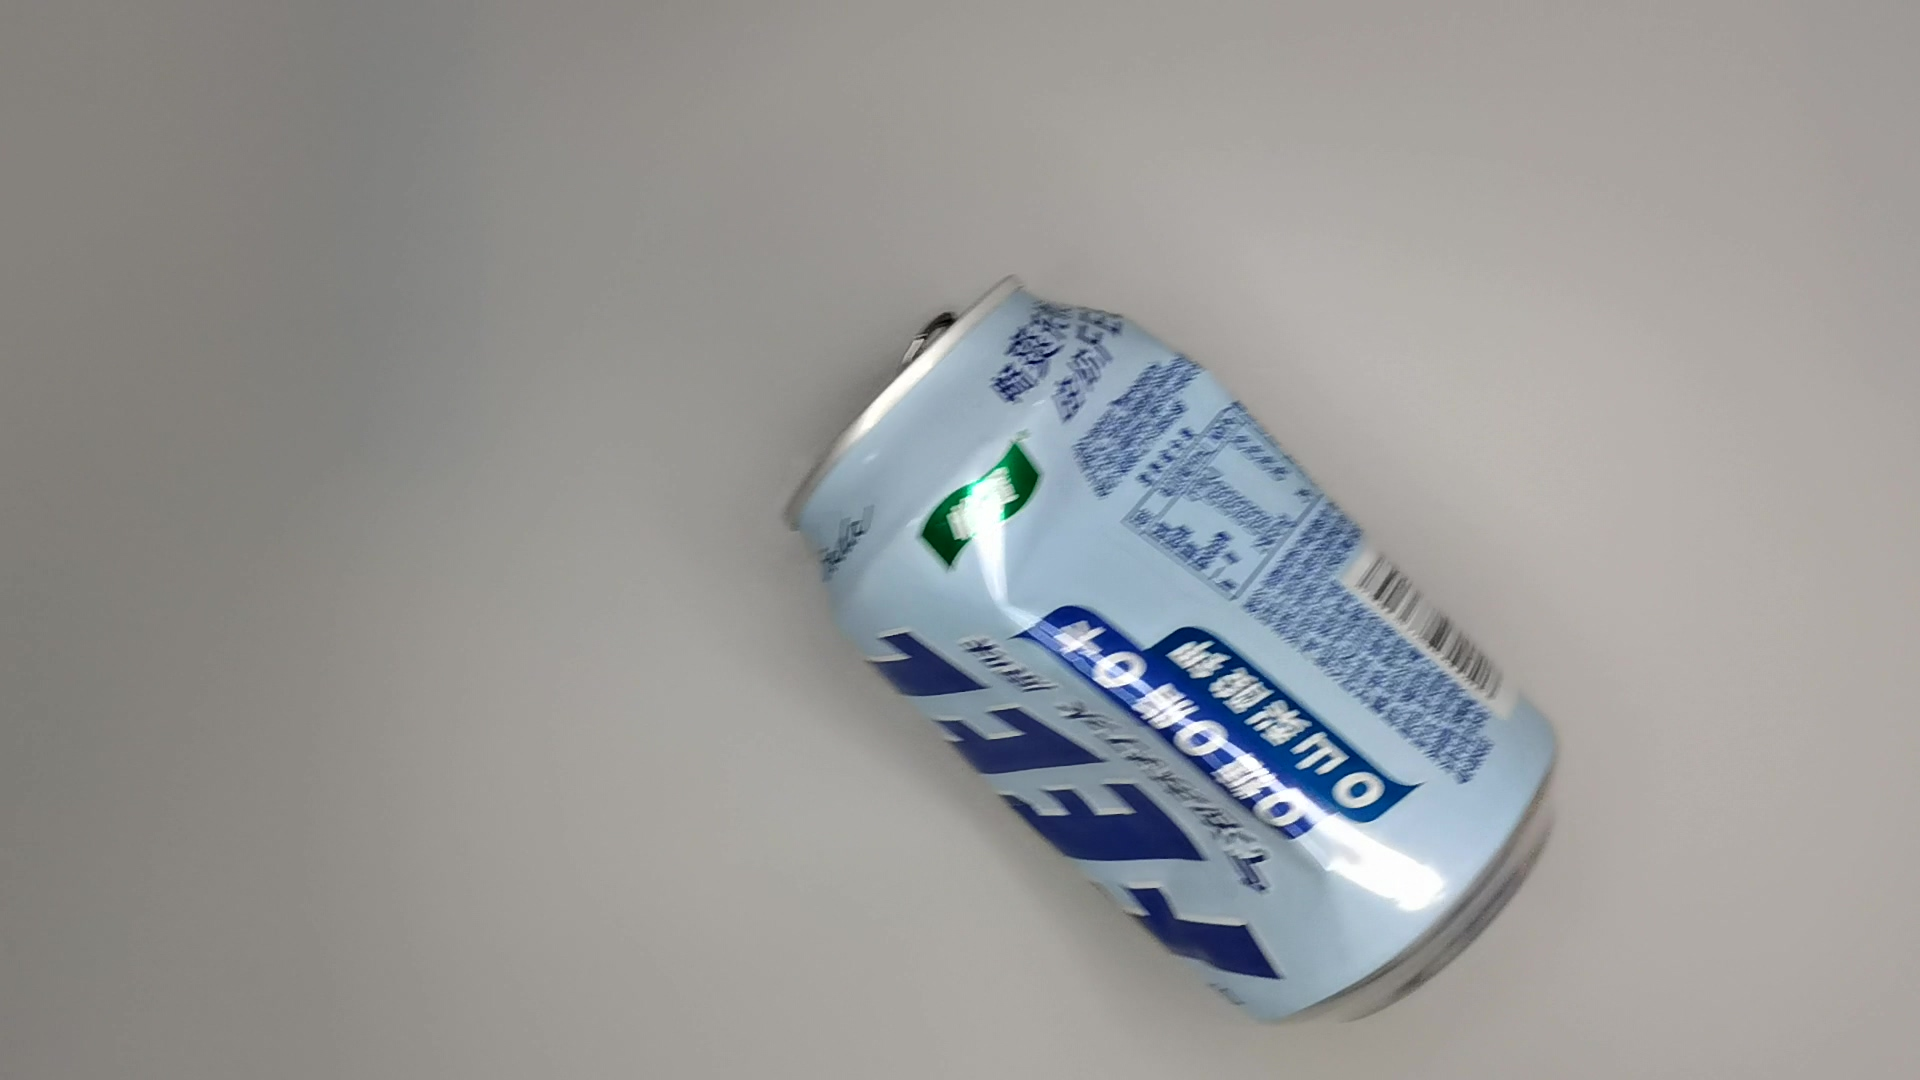can: (770, 266, 1586, 1040)
